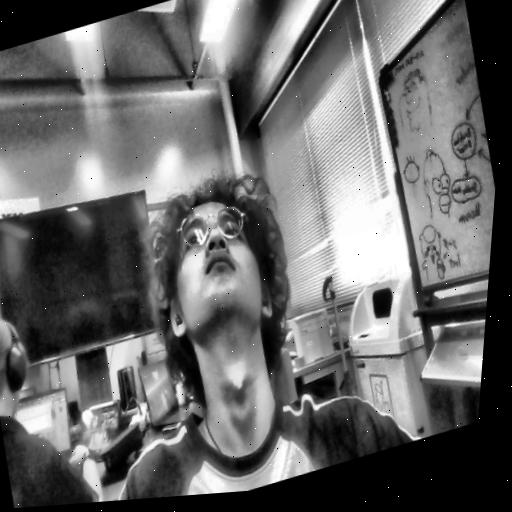Daifuku: (120, 155, 320, 416)
Not Daifuku: (0, 305, 44, 420)
